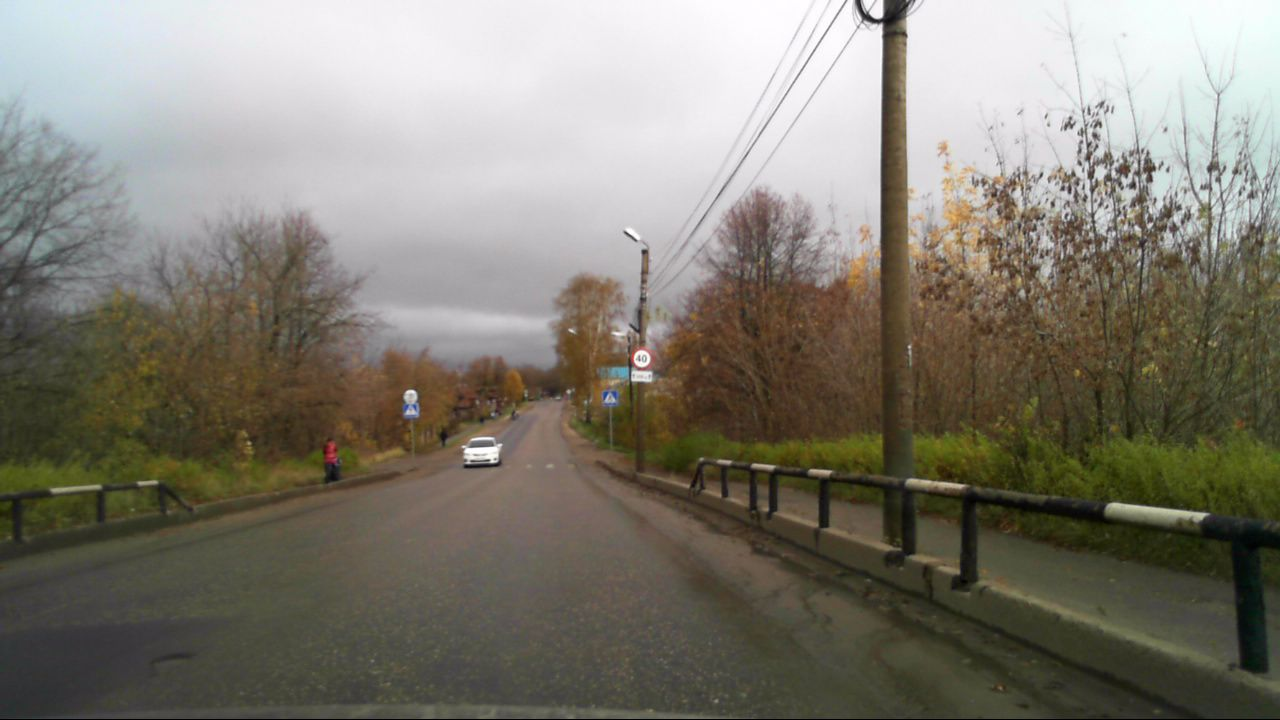speed_warning_40: (630, 347, 651, 369)
